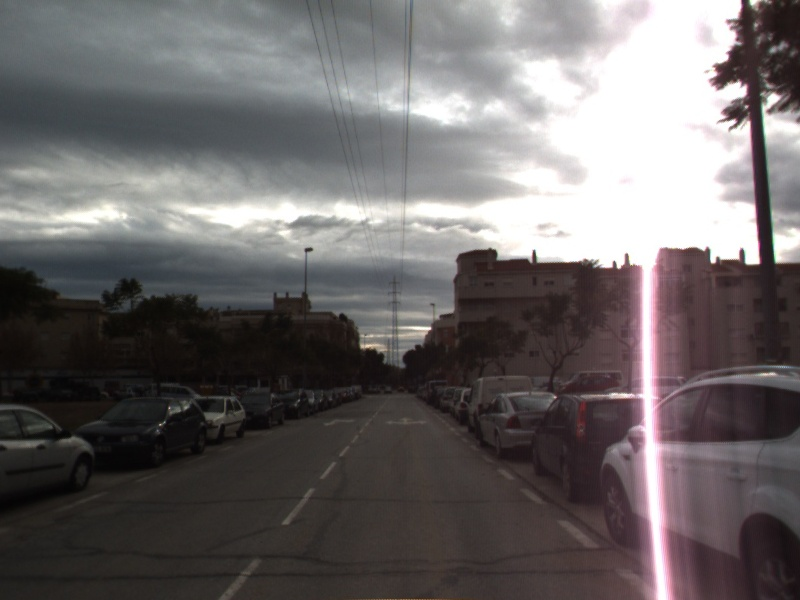STRAIGHT_LEFT_RIGHT: (383, 415, 430, 427)
